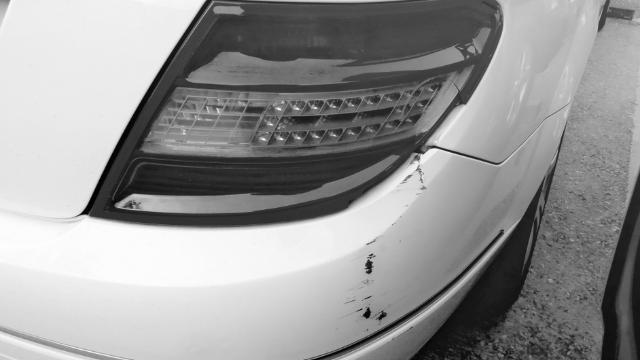Bumper: (338, 152, 442, 348)
